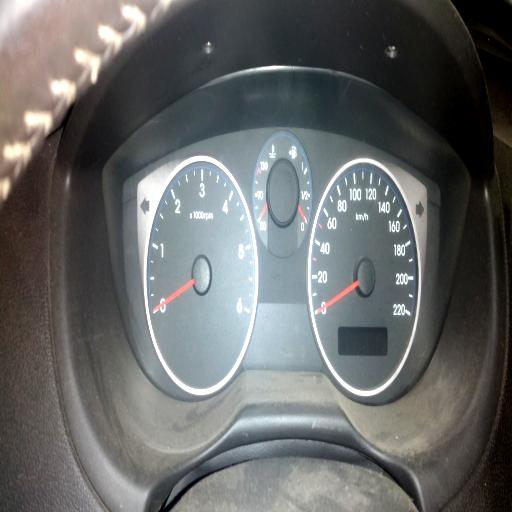tachometer: (144, 152, 259, 395)
